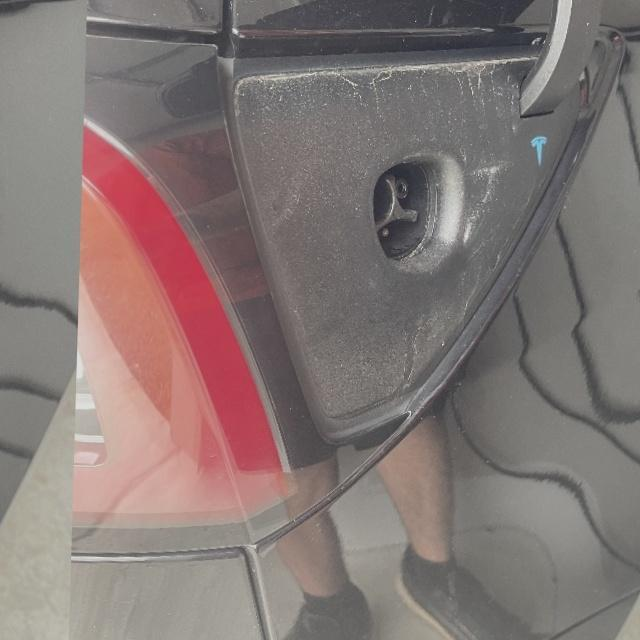Tesla Model-S-: (354, 144, 490, 283)
